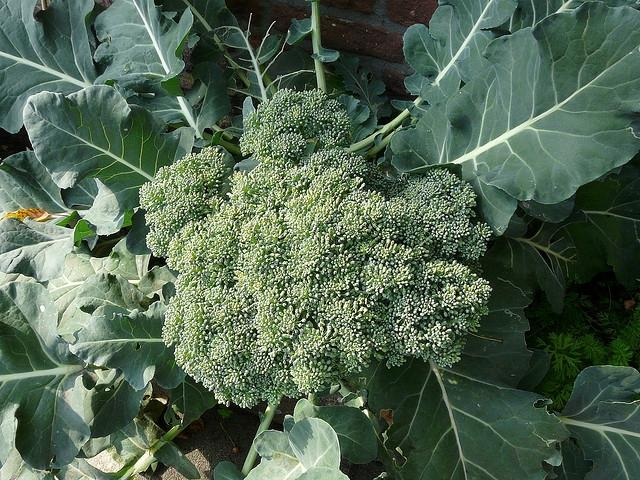broccoli: (139, 88, 493, 409)
